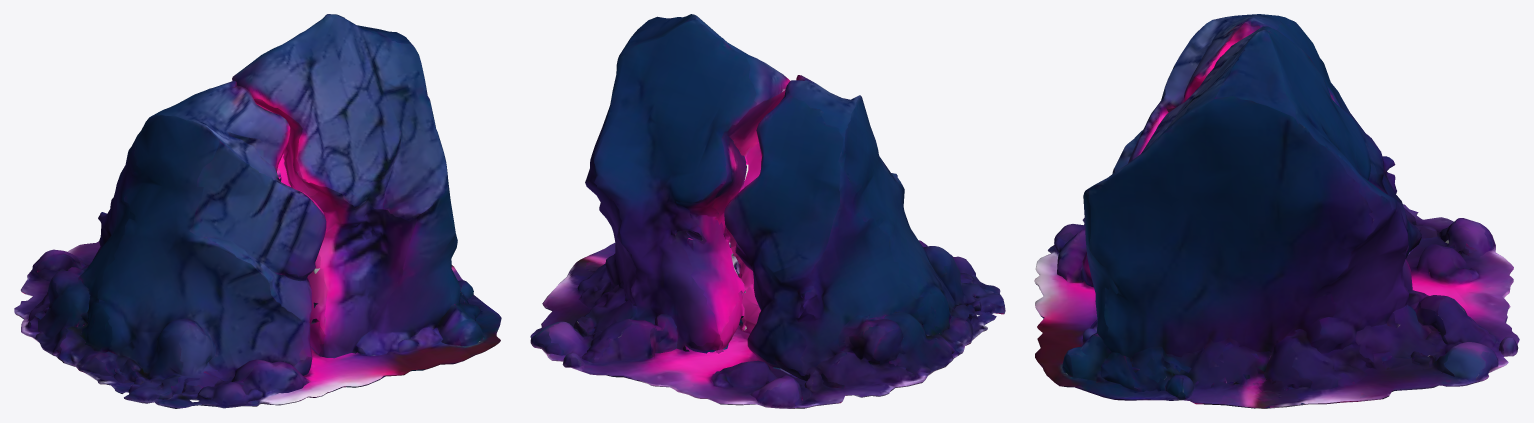
The model's file is shore-stone-11-generated-2026-05-17T20-22-40-414Z.low.glb.
3 renders of one model, left to right at view 1: azimuth 30°, elevation 25°; view 2: azimuth 150°, elevation 25°; view 3: azimuth 270°, elevation 25°, orthographic. The views are drawn at different scales.
Visible parts, largest first — view 1: temp_mesh.ply; view 2: temp_mesh.ply; view 3: temp_mesh.ply.
Boxes of the visible parts, x1=… form: temp_mesh.ply: x1=14, y1=14, x2=501, y2=408; temp_mesh.ply: x1=530, y1=14, x2=1005, y2=408; temp_mesh.ply: x1=1034, y1=14, x2=1519, y2=408.
Bounding box in the file's own units: 1.96 × 1.35 × 1.89.
Materials: 1 (1 with a texture image).
